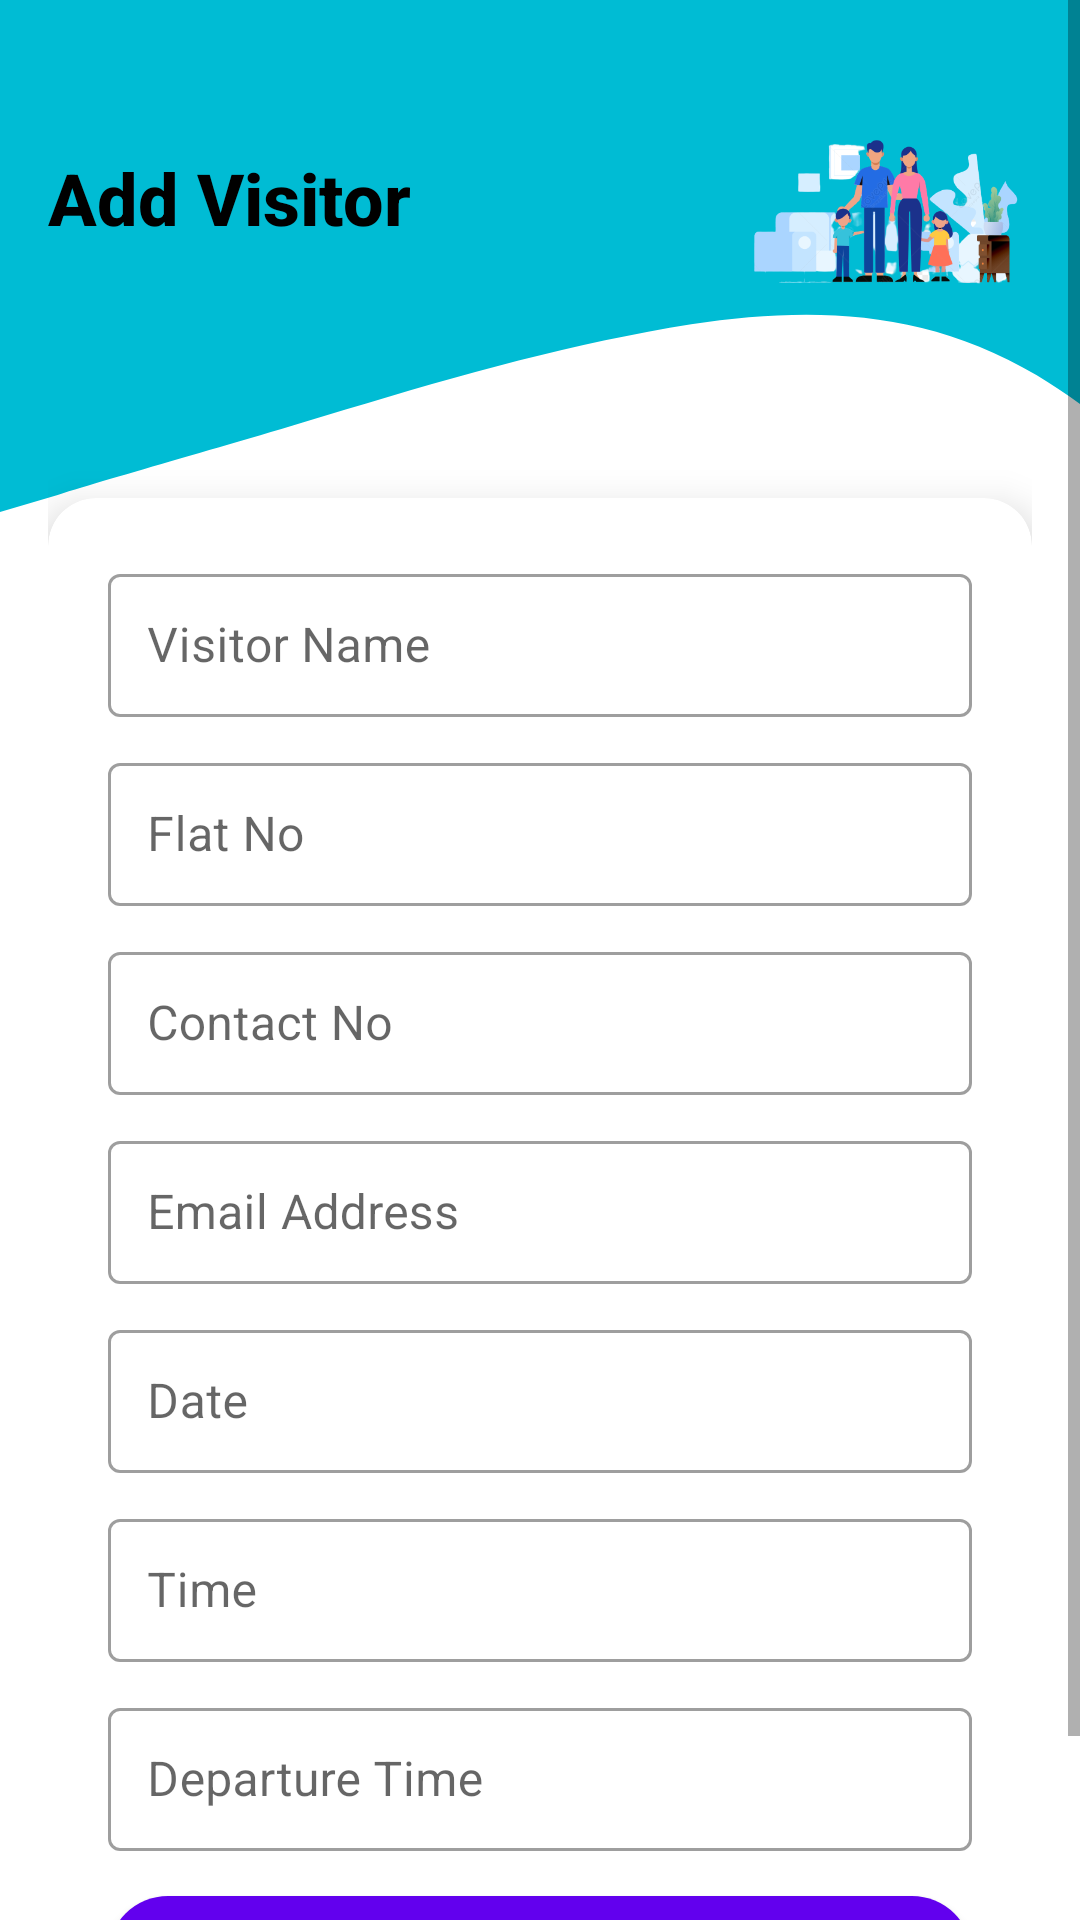

Named icons in this screenshot (1080*1920) and their centers, point (x, y):
family: point (886, 212)
